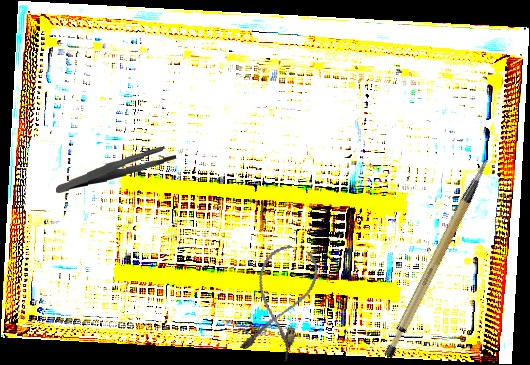Cannula: (236, 239, 324, 364)
Dressing Forceps: (54, 145, 178, 194)
Scalpel Handle: (359, 157, 519, 361)
